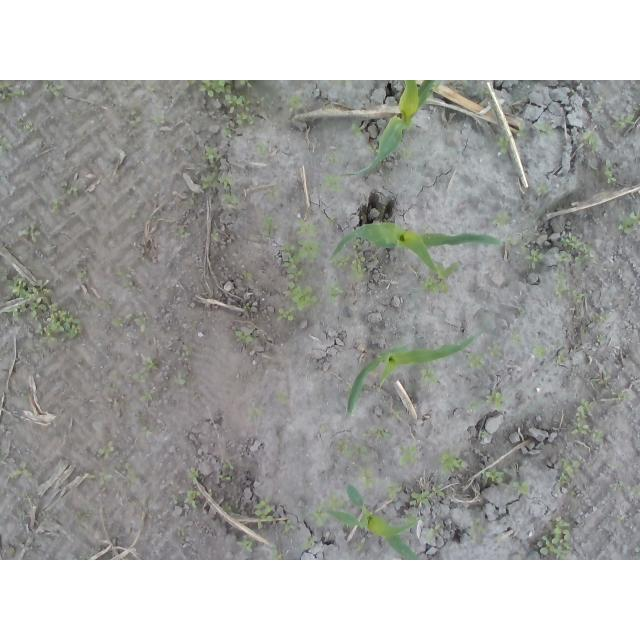Maize: (329, 223, 504, 282), (345, 335, 474, 415), (336, 80, 441, 176), (327, 484, 418, 561)
Weeds: (0, 269, 88, 350), (282, 218, 323, 278), (537, 516, 574, 561), (313, 492, 351, 528), (557, 231, 594, 265), (286, 281, 320, 311), (336, 439, 369, 466), (410, 484, 446, 508), (0, 80, 32, 107), (225, 94, 267, 114), (571, 398, 593, 435), (440, 448, 467, 475), (352, 237, 369, 279), (559, 456, 582, 486), (617, 102, 640, 130), (420, 274, 449, 295), (255, 495, 274, 527), (203, 143, 226, 169), (617, 209, 640, 235), (200, 174, 235, 191), (15, 222, 42, 242), (176, 488, 201, 509), (10, 461, 35, 482), (198, 81, 232, 96), (398, 442, 418, 467), (553, 268, 569, 299), (526, 248, 546, 272), (483, 468, 514, 483), (97, 468, 113, 497), (360, 467, 380, 490), (258, 211, 278, 234), (581, 130, 601, 153), (363, 425, 393, 440), (60, 180, 81, 201), (486, 390, 507, 411), (232, 326, 255, 345), (603, 159, 618, 188), (320, 174, 344, 192), (466, 351, 489, 369), (417, 367, 440, 385), (237, 534, 257, 554), (486, 340, 506, 360), (493, 207, 514, 225), (327, 287, 347, 305), (42, 80, 64, 96), (470, 517, 483, 543), (130, 104, 143, 129), (246, 406, 264, 424), (287, 95, 305, 113), (128, 312, 147, 329), (510, 479, 530, 495), (222, 190, 242, 206), (277, 307, 298, 322), (611, 389, 633, 403), (142, 352, 160, 369), (17, 113, 34, 131), (399, 145, 417, 162), (425, 525, 441, 544), (279, 520, 297, 536), (385, 481, 401, 498), (270, 544, 286, 561), (497, 135, 512, 153), (331, 255, 352, 267), (236, 114, 257, 126), (97, 447, 116, 460), (119, 271, 134, 287), (264, 185, 280, 200), (593, 370, 609, 385), (537, 123, 554, 137), (302, 535, 317, 550), (467, 399, 482, 414), (350, 123, 366, 137), (536, 179, 552, 193), (223, 502, 241, 514), (571, 289, 585, 304), (533, 344, 547, 359), (50, 198, 63, 214), (592, 311, 609, 323), (510, 329, 522, 346), (239, 80, 259, 90), (273, 391, 291, 402), (356, 538, 369, 553), (186, 467, 199, 482), (176, 350, 192, 362), (152, 114, 168, 126), (75, 511, 92, 522), (406, 512, 419, 526), (556, 351, 569, 365), (505, 234, 520, 246), (335, 80, 354, 89), (128, 371, 145, 381), (176, 228, 193, 238), (175, 370, 187, 384), (591, 430, 605, 442), (255, 143, 270, 154), (479, 85, 491, 98), (446, 262, 459, 274), (629, 483, 640, 497), (210, 224, 219, 241), (72, 552, 89, 561), (144, 390, 155, 403), (127, 207, 138, 220), (146, 83, 159, 94), (112, 319, 126, 329), (593, 335, 605, 346), (391, 408, 401, 421), (519, 127, 530, 138), (1, 450, 8, 467), (591, 160, 598, 176), (608, 482, 619, 492), (176, 527, 186, 538), (324, 216, 336, 224), (186, 80, 198, 88), (0, 134, 8, 146), (220, 472, 232, 480), (223, 127, 232, 137), (327, 153, 337, 162), (480, 430, 489, 439), (367, 144, 377, 152), (242, 304, 252, 311), (224, 463, 233, 469)
